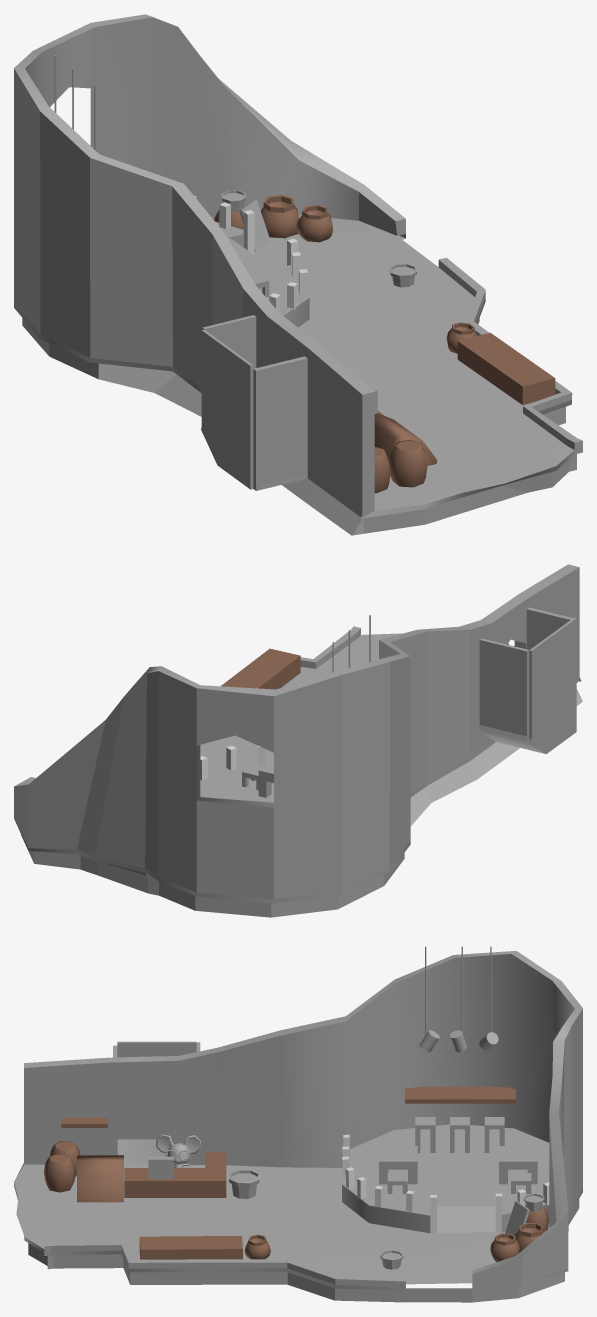
The model's file is Tienda.fbx.
The picture shows the model from 3 angles, top to bottom: view 1: azimuth 30°, elevation 25°; view 2: azimuth 150°, elevation 25°; view 3: azimuth 270°, elevation 25°; orthographic projection. The views are drawn at different scales.
Parts seen in each view (by area): view 1: Fondo, pCube3, tinajas1, plataforma, barriles, Barandillas, Vitrina, Pizarra; view 2: Fondo, pCube3, plataforma, Barandillas, Mesas; view 3: Fondo, plataforma, Mostrador, pCube3, Mesas, Vitrina, Mesa_flotante, Barandillas, Taburete3, barriles, Luces, tinajas1 (+7 smaller).
Boxes of the visible parts, box(x1,y1,x2,y2) form: Fondo: box(14, 14, 582, 535); pCube3: box(457, 332, 555, 404); tinajas1: box(261, 195, 332, 242); plataforma: box(215, 221, 309, 327); barriles: box(374, 440, 427, 493); Barandillas: box(194, 196, 307, 313); Vitrina: box(374, 413, 436, 466); Pizarra: box(239, 199, 270, 251); Fondo: box(14, 564, 582, 917); pCube3: box(221, 648, 300, 689); plataforma: box(200, 764, 273, 802); Barandillas: box(200, 745, 265, 780); Mesas: box(258, 759, 273, 797); Fondo: box(14, 950, 582, 1302); plataforma: box(342, 1124, 549, 1233); Mostrador: box(124, 1152, 226, 1197); pCube3: box(139, 1236, 242, 1259); Mesas: box(379, 1146, 537, 1184); Vitrina: box(77, 1155, 123, 1202); Mesa_flotante: box(405, 1086, 515, 1103); Barandillas: box(342, 1134, 549, 1233); Taburete3: box(415, 1117, 504, 1152); barriles: box(44, 1141, 80, 1192); Luces: box(419, 946, 498, 1052); tinajas1: box(490, 1223, 544, 1262).
Bounding box in the file's own units: 10.94 × 7.62 × 17.56.
